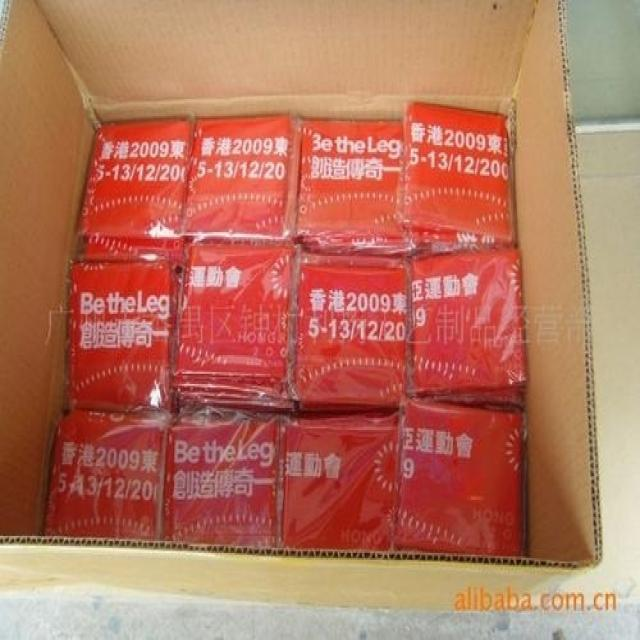box: (1, 1, 603, 612), (529, 130, 639, 611)
